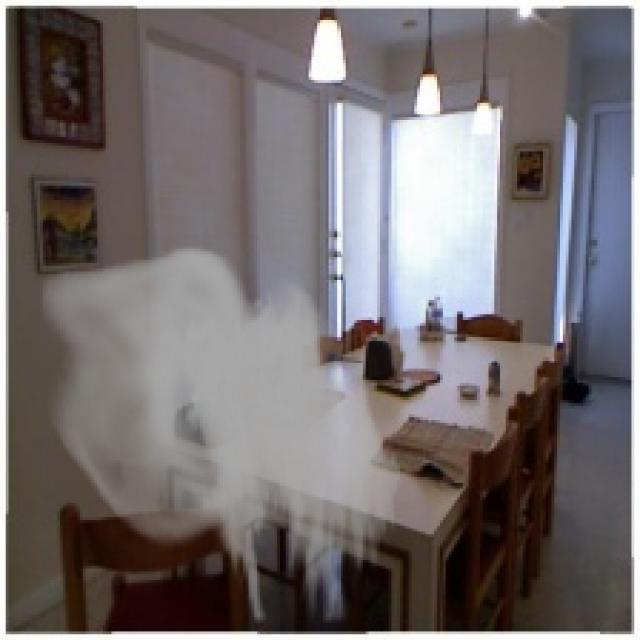Smoke: (40, 246, 406, 623)
